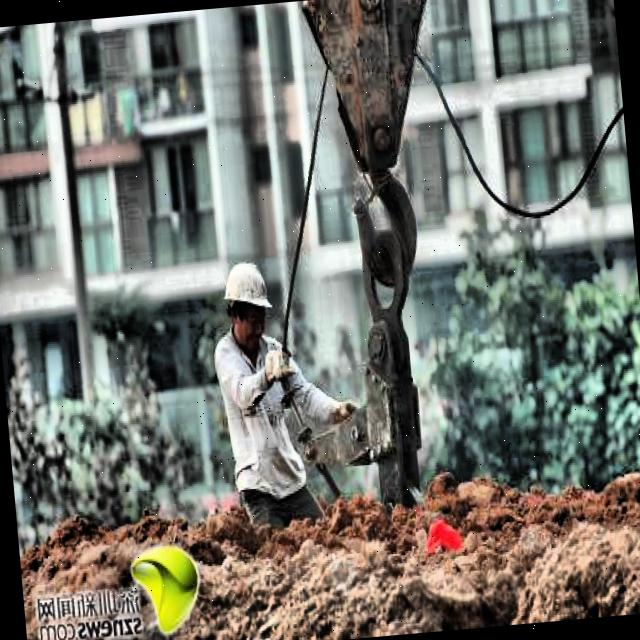helmet: (216, 256, 278, 354)
